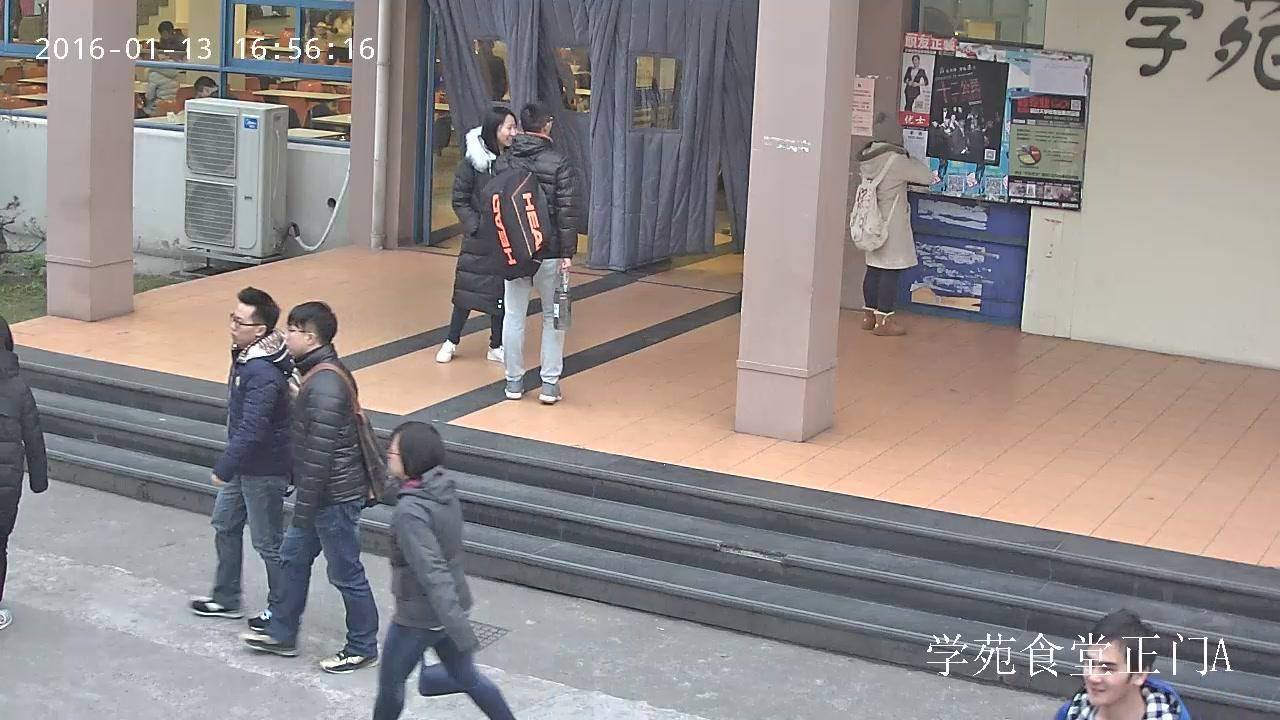person: (237, 301, 385, 674), (375, 419, 515, 720), (188, 285, 305, 631), (479, 101, 578, 403), (435, 106, 522, 361), (849, 112, 932, 335), (1050, 610, 1188, 720), (0, 316, 42, 630), (138, 57, 178, 114), (902, 53, 928, 109), (147, 22, 187, 51)
